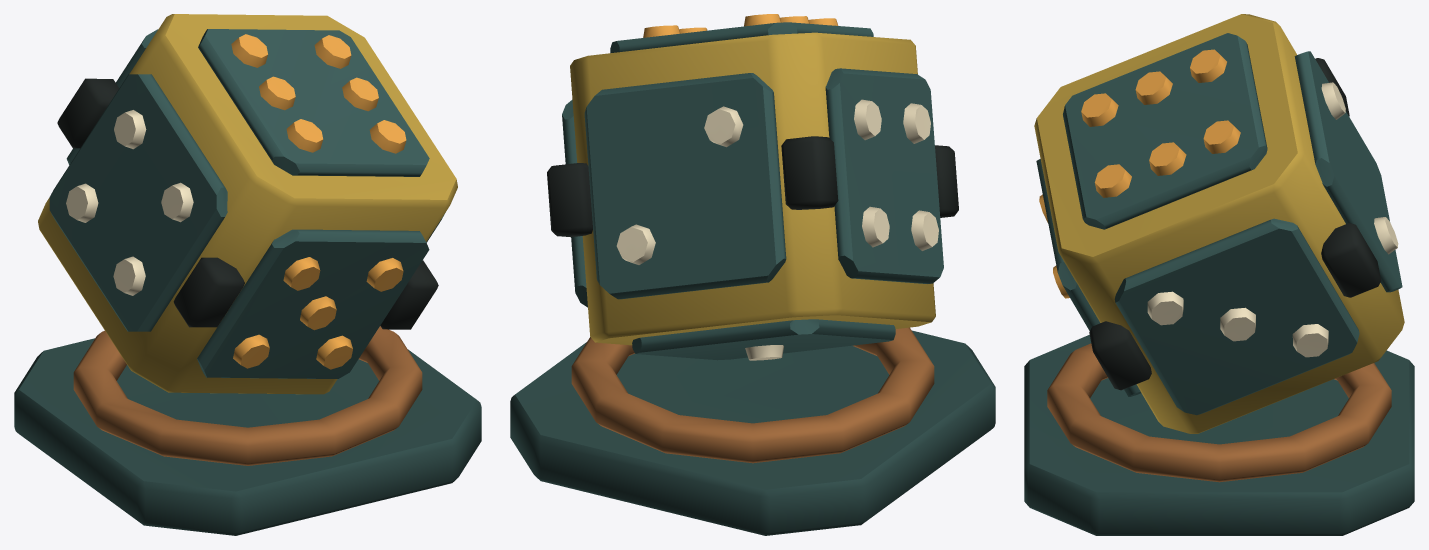
The model's file is cons_scrap_dice.glb.
3 renders of one model, left to right at view 1: azimuth 30°, elevation 25°; view 2: azimuth 150°, elevation 25°; view 3: azimuth 270°, elevation 25°, orthographic. The views are drawn at different scales.
Parts seen in each view (by area): view 1: cons_scrap_dice_mesh; view 2: cons_scrap_dice_mesh; view 3: cons_scrap_dice_mesh.
Boxes of the visible parts, x1,y1,x2,y2 form: cons_scrap_dice_mesh: (14, 14, 481, 535); cons_scrap_dice_mesh: (510, 14, 995, 535); cons_scrap_dice_mesh: (1024, 14, 1414, 535).
Bounding box in the file's own units: 0.42 × 0.4876 × 0.42.
